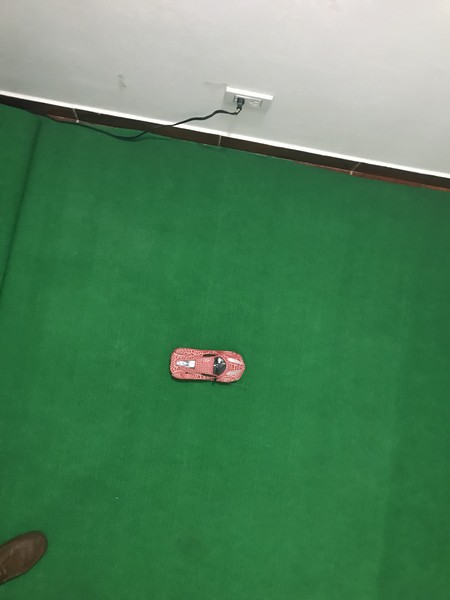RC: (167, 345, 246, 387)
